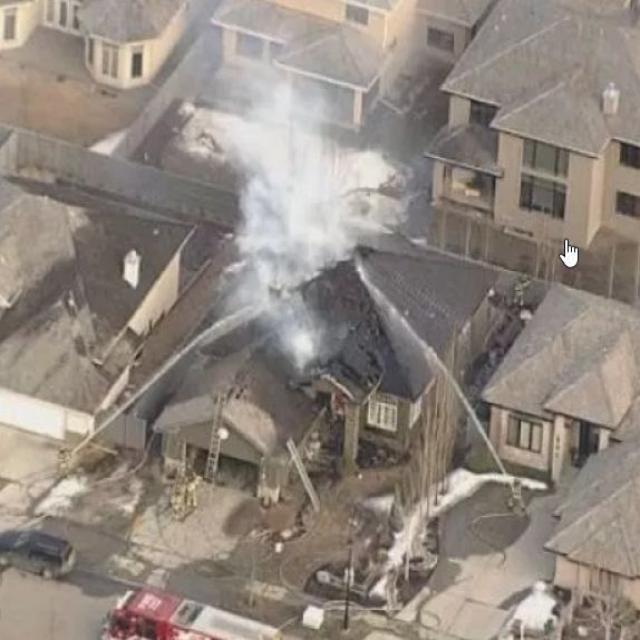Smoke: (214, 88, 358, 342)
